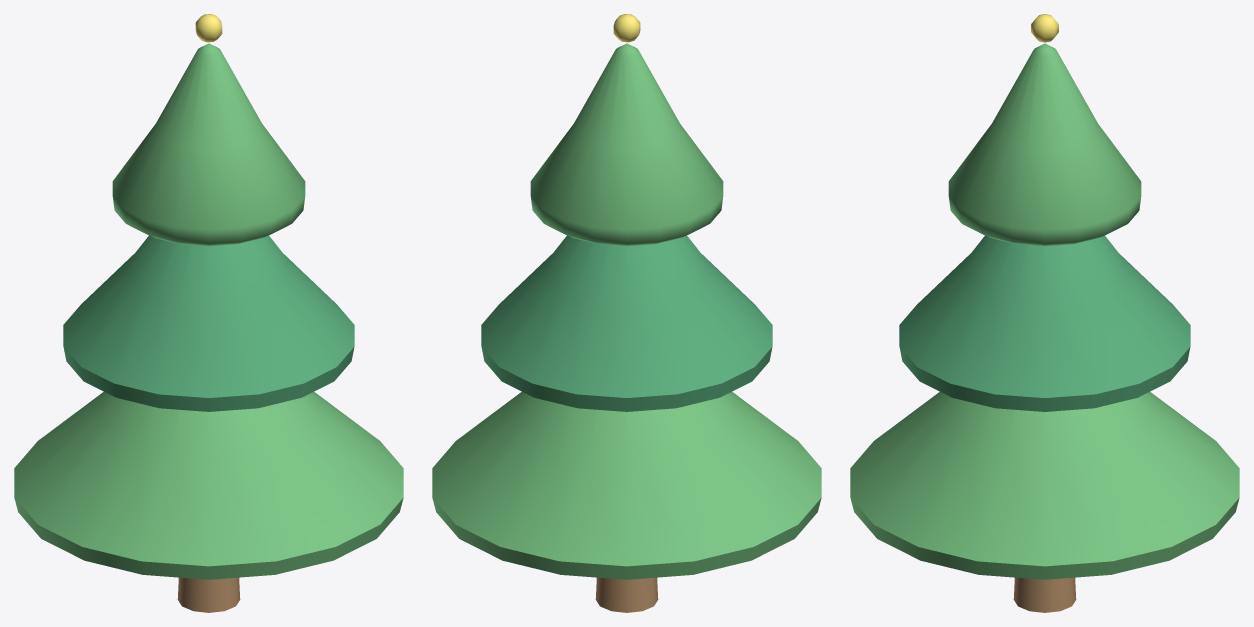
File: tree.glb
The picture shows the model from 3 angles, left to right: view 1: azimuth 30°, elevation 25°; view 2: azimuth 150°, elevation 25°; view 3: azimuth 270°, elevation 25°; orthographic projection.
Parts seen in each view (by area): view 1: tree; view 2: tree; view 3: tree.
Boxes of the visible parts, x1,y1,x2,y2 form: tree: (14, 14, 403, 612); tree: (432, 14, 821, 612); tree: (850, 14, 1239, 612).
Size of the model in its own units: 1.9 by 3.1 by 1.87.
